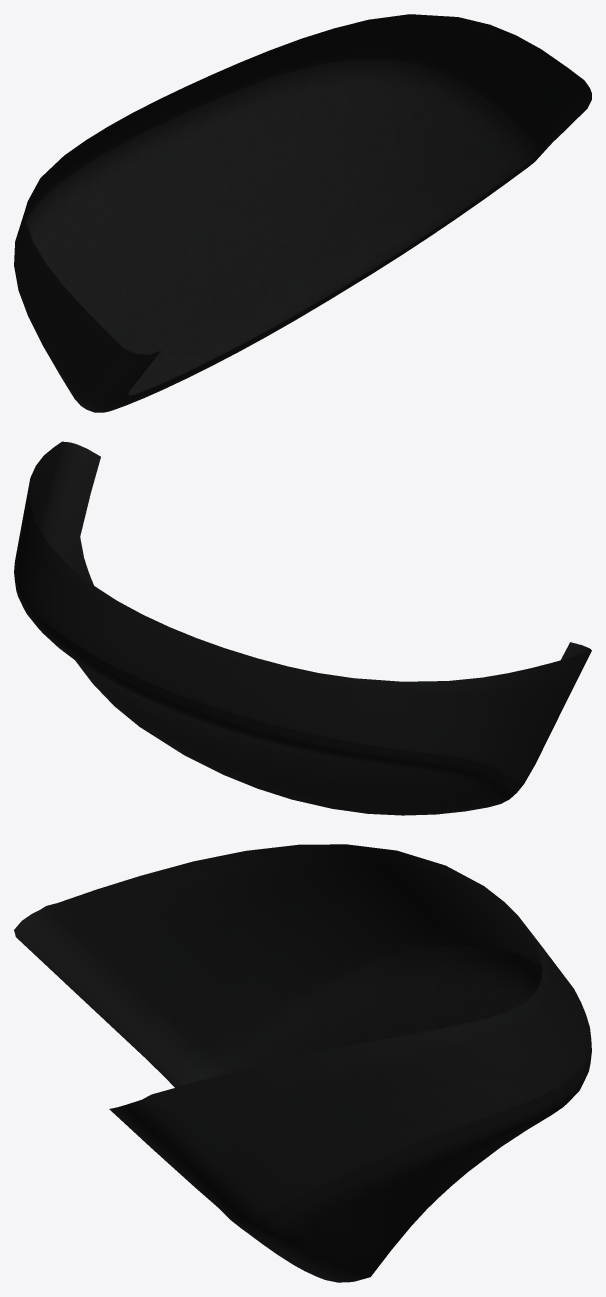
File: frame_controller_right_bumper.obj
The picture shows the model from 3 angles, top to bottom: view 1: azimuth 30°, elevation 25°; view 2: azimuth 150°, elevation 25°; view 3: azimuth 270°, elevation 25°; orthographic projection. The views are drawn at different scales.
Visible parts, largest first — view 1: frame_controller_right_bumper; view 2: frame_controller_right_bumper; view 3: frame_controller_right_bumper.
Boxes of the visible parts, bbox=[...] form: frame_controller_right_bumper: bbox=[14, 14, 591, 412]; frame_controller_right_bumper: bbox=[14, 441, 591, 815]; frame_controller_right_bumper: bbox=[14, 844, 591, 1282].
Bounding box in the file's own units: 0.035 × 0.0175 × 0.0232.
Materials: 1 (1 with a texture image).
